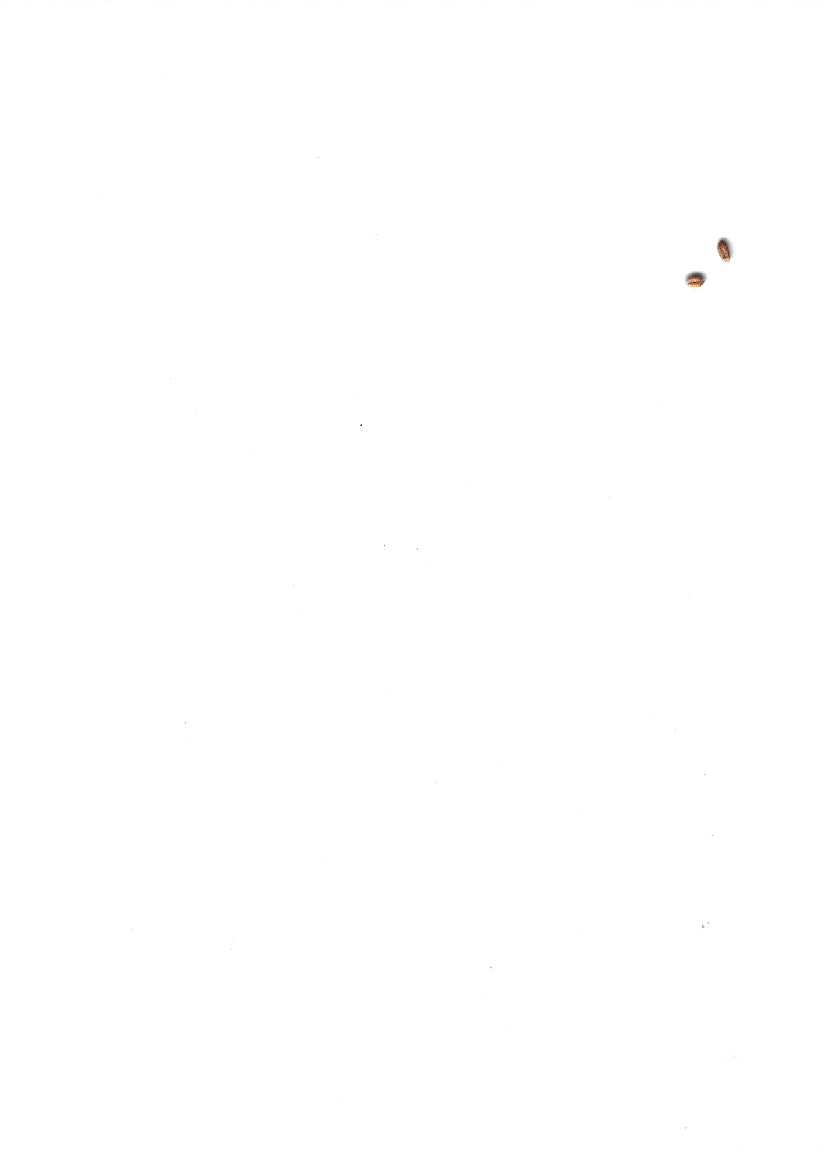grains: (673, 263, 712, 298), (712, 233, 741, 272)
